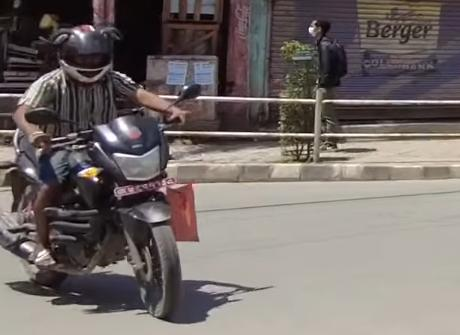bike: (0, 80, 209, 322)
